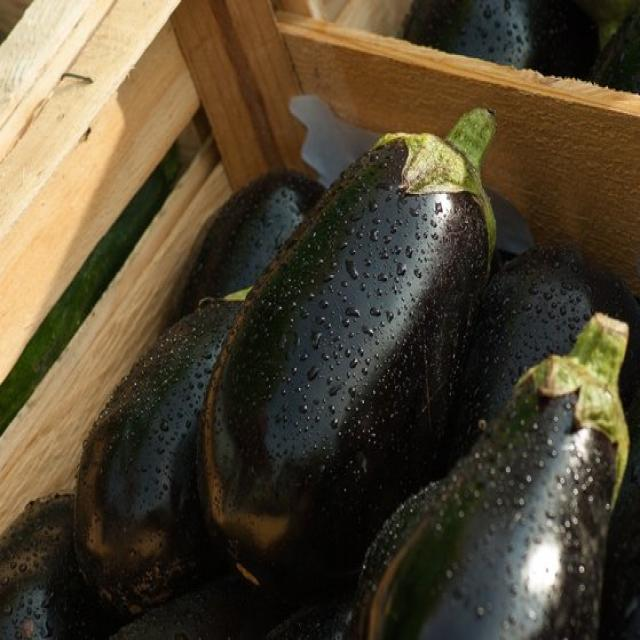eggplant: (210, 92, 528, 598)
